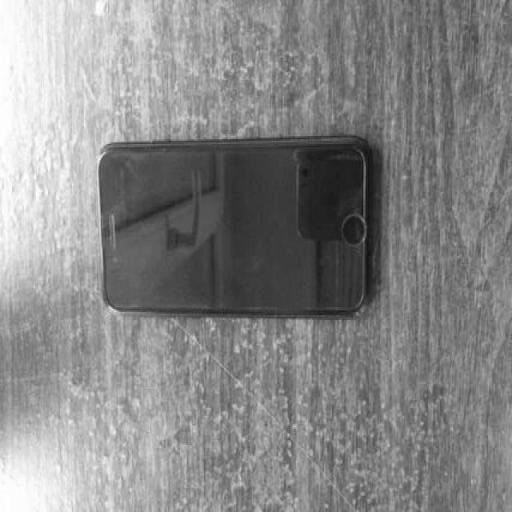phone: (93, 133, 370, 317)
